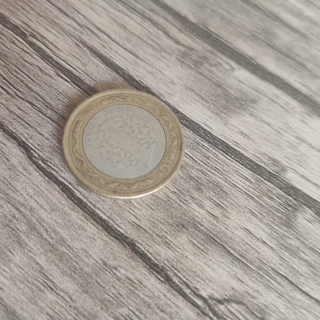1TL: (59, 86, 185, 201)
